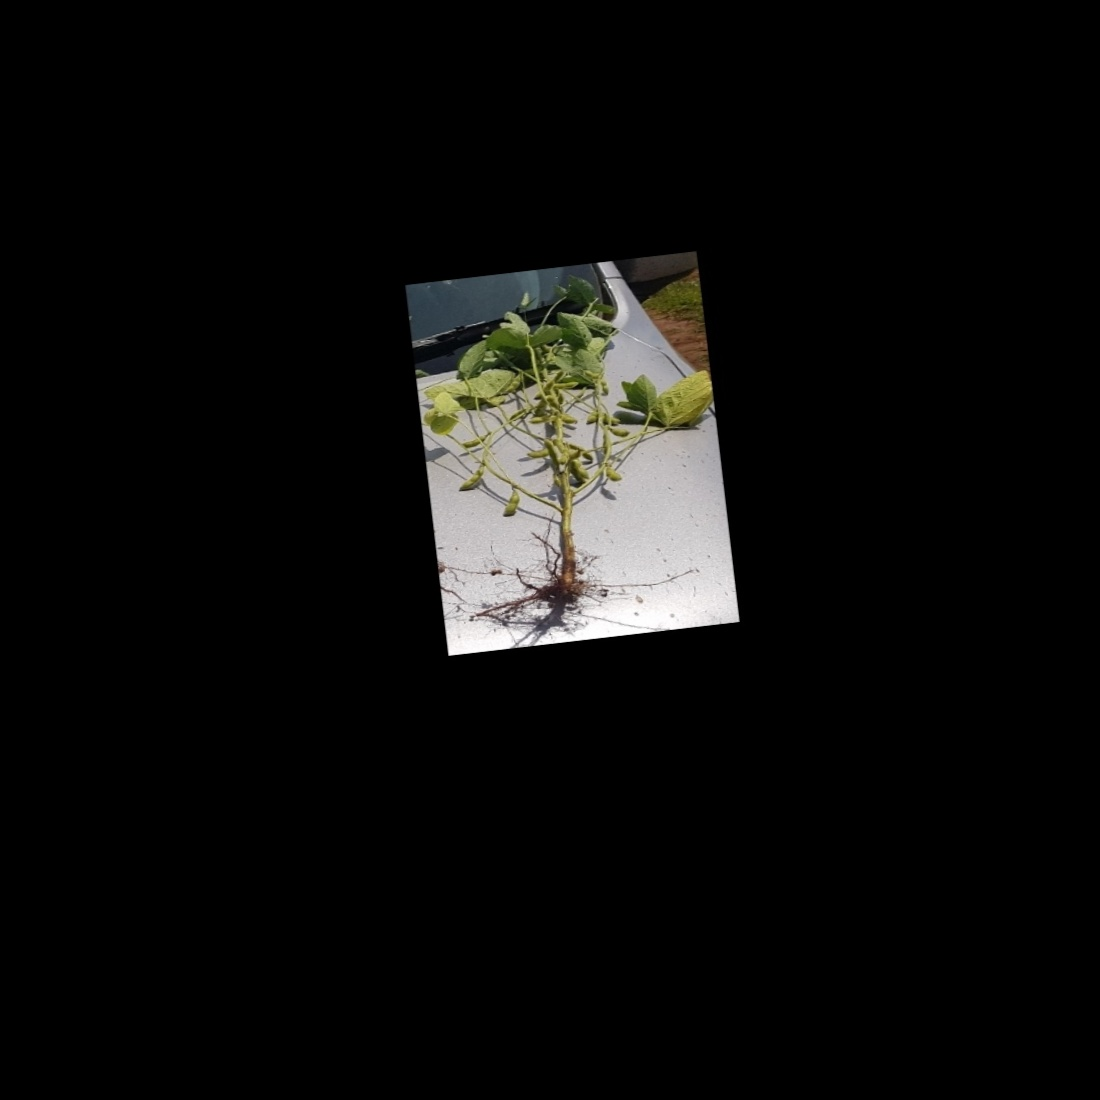pod: (453, 458, 490, 495), (496, 484, 523, 522), (500, 370, 525, 398), (458, 431, 494, 450), (602, 463, 628, 488), (549, 378, 582, 392), (607, 424, 633, 440)
soy: (419, 270, 705, 626)
